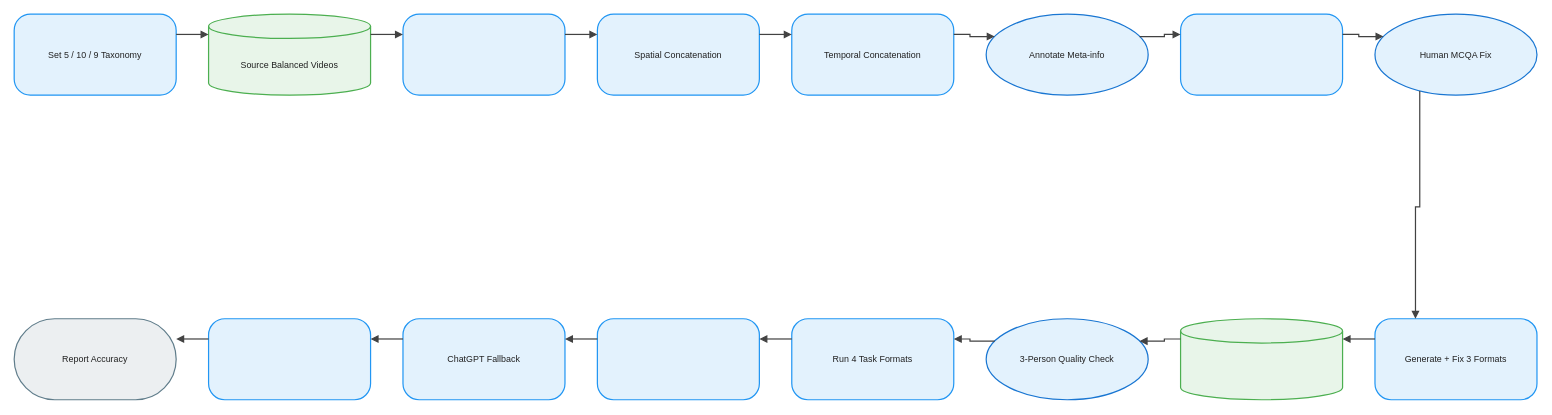
This 1552x415 diagram has some shape labels left out. Here are the shapes that lost their labels. From the top down, the box of each, then its label:
(402, 13, 565, 95): Reverse Conflicts
(1180, 13, 1343, 95): Generate MCQA
(208, 318, 371, 400): Caption-via-MCQA Judge
(596, 318, 760, 400): Rule-based Parse
(1180, 318, 1343, 400): Freeze 410 / 500 / 7,540
